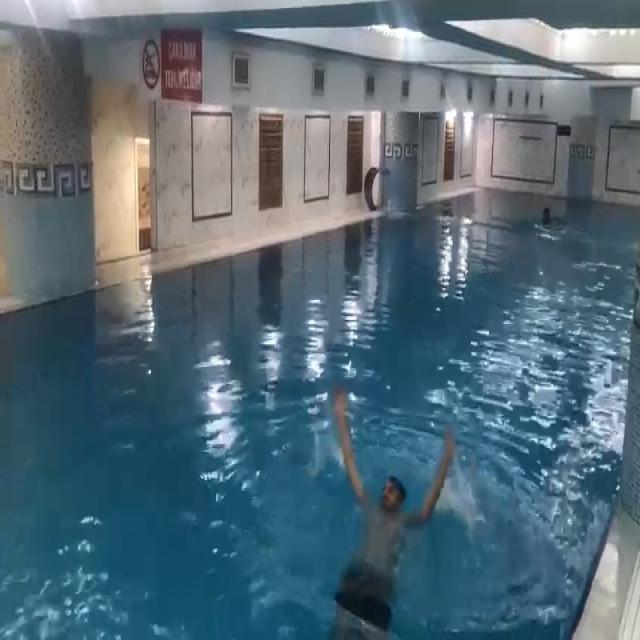Drowning: (331, 386, 454, 610)
